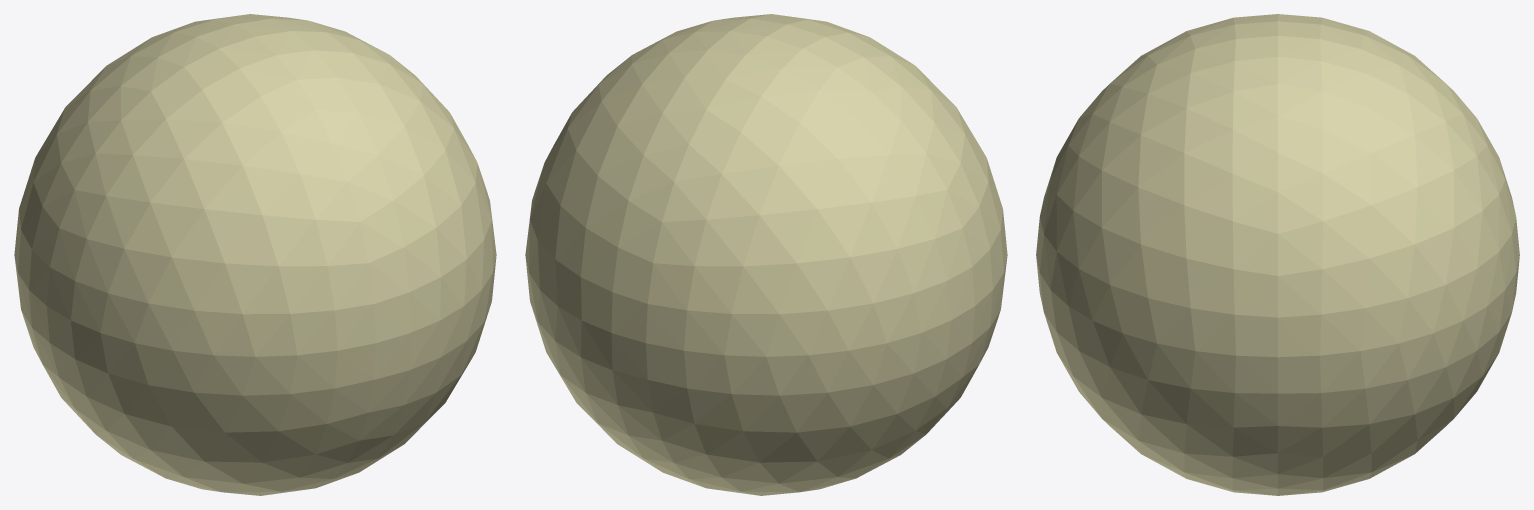
Rendered from geodesic_sphere.glb.
3 views of the same model, side by side, from view 1: azimuth 30°, elevation 25°; view 2: azimuth 150°, elevation 25°; view 3: azimuth 270°, elevation 25° (orthographic).
Visible parts, largest first — view 1: geometry_0; view 2: geometry_0; view 3: geometry_0.
Boxes of the visible parts, box(x1,y1,x2,y2) form: geometry_0: box(14, 14, 496, 495); geometry_0: box(525, 14, 1007, 495); geometry_0: box(1036, 14, 1519, 495).
Bounding box in the file's own units: 34 × 34 × 34.
